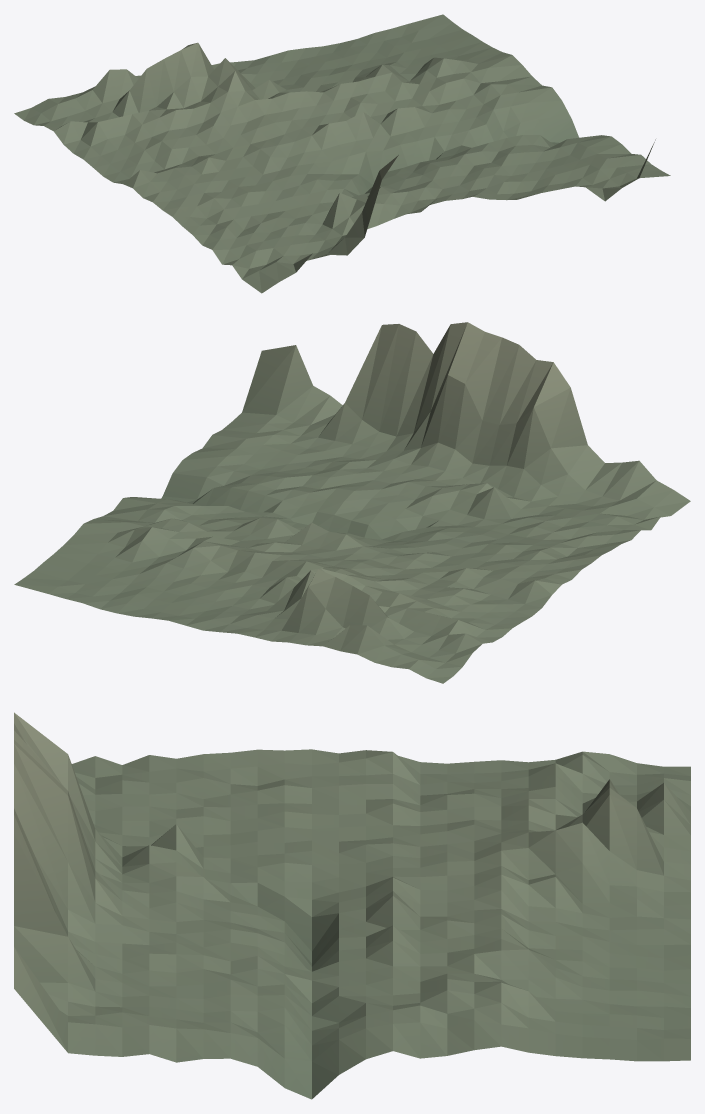
The model's file is tile_2_1.glb.
3 renders of one model, top to bottom at view 1: azimuth 30°, elevation 25°; view 2: azimuth 150°, elevation 25°; view 3: azimuth 270°, elevation 25°, orthographic. The views are drawn at different scales.
Parts seen in each view (by area): view 1: geometry_0; view 2: geometry_0; view 3: geometry_0.
Part boxes in pixels (x1,y1,x2,y2): geometry_0: (14,14,670,293); geometry_0: (14,322,690,683); geometry_0: (14,712,690,1099).
Bounding box in the file's own units: 123 × 43.69 × 123.
